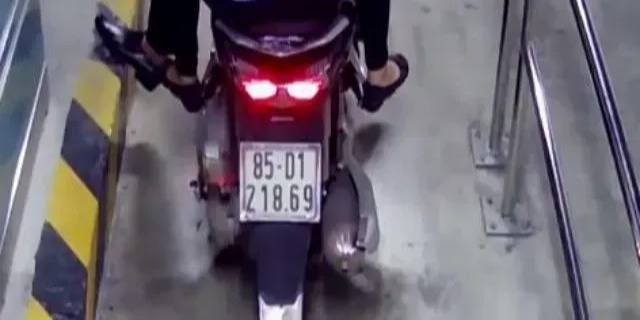bien_so: (239, 143, 321, 222)
